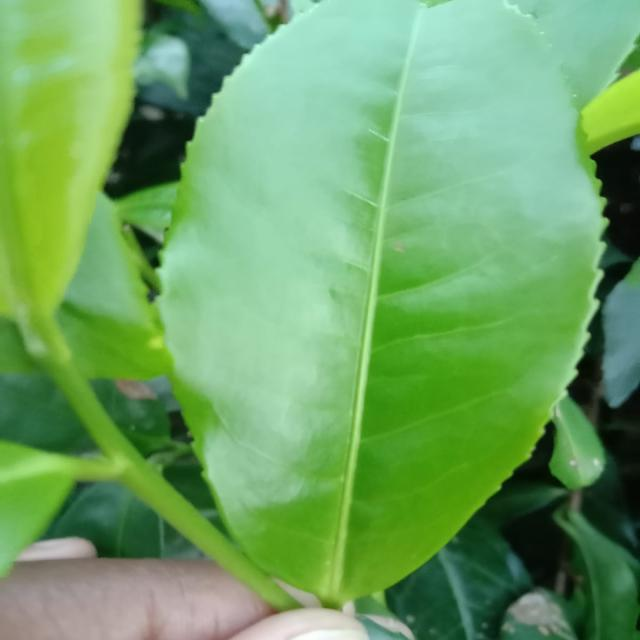Category C 4-7 days: (134, 0, 618, 640)
